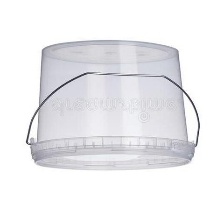plastic_box: (16, 34, 209, 177)
